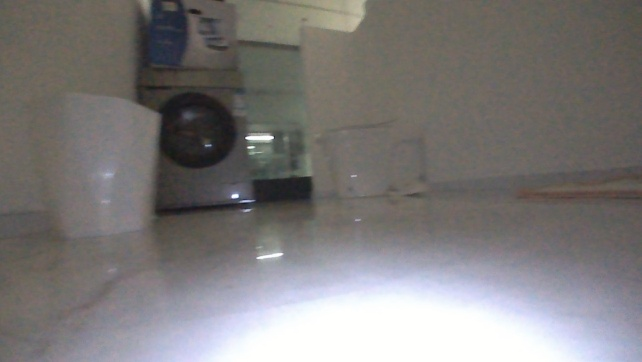blanket: (510, 167, 641, 201)
toilet: (311, 107, 418, 198)
trash_can: (25, 86, 168, 243)
washing_machine: (133, 62, 259, 215)
